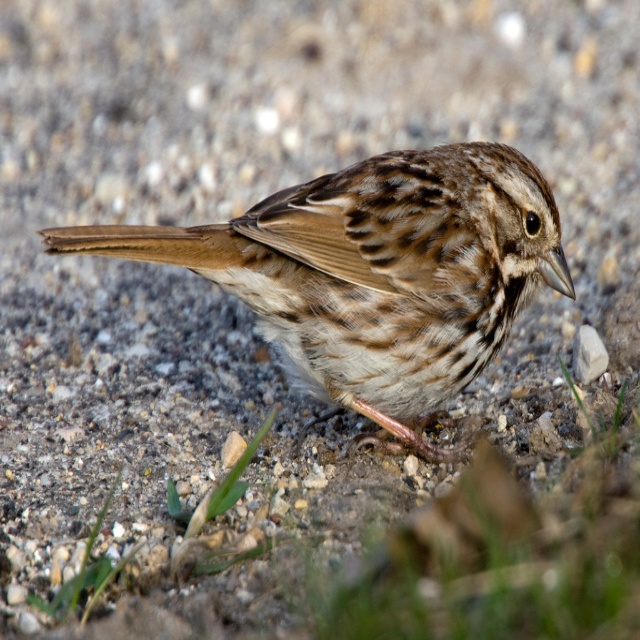Sparrow: (36, 140, 576, 464)
